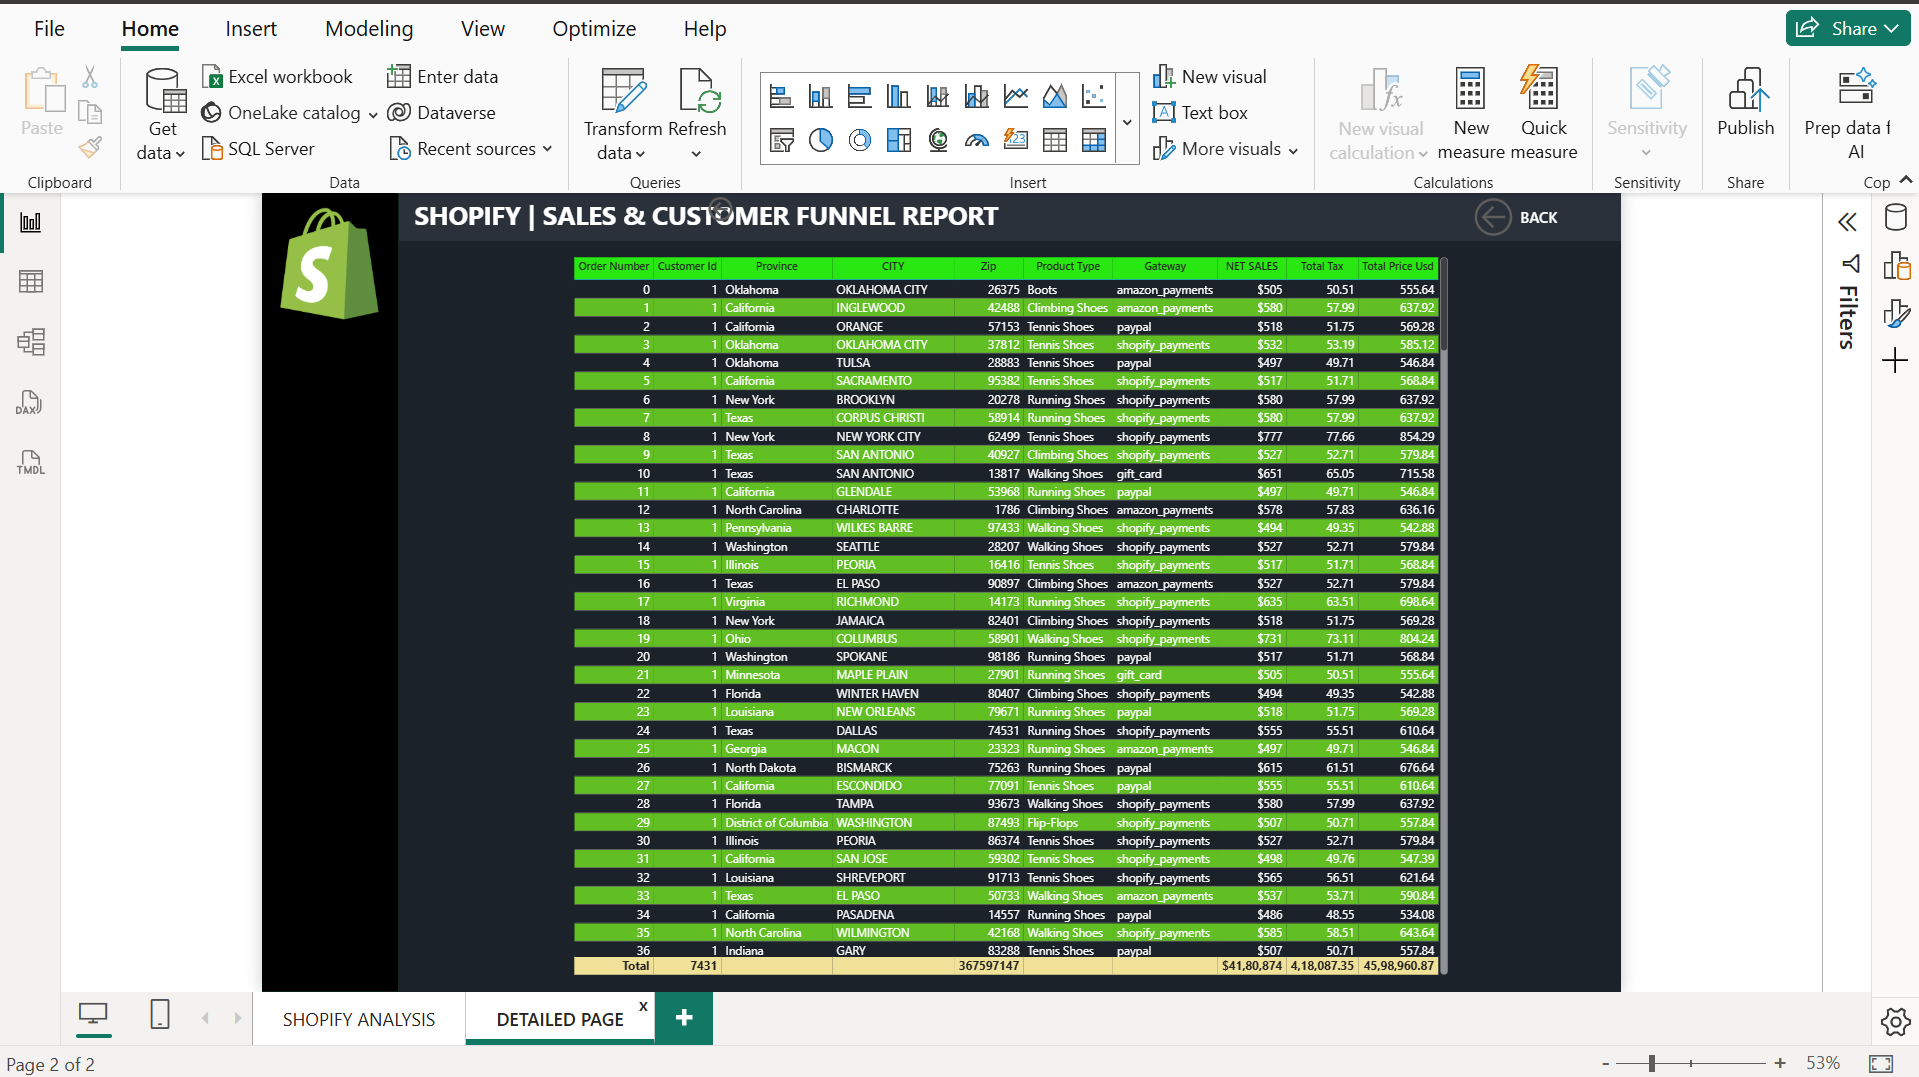

Layout of this report page (visuals, bound fields, positions):
{"tool":"powerbi","page":{"name":"DETAILED PAGE","canvas":[1700,1000],"ordinal":1},"visuals":[{"type":"shape","box":[0,0,170.9,999.5],"z":0},{"type":"textbox","box":[185,0,802.4,60.3],"z":1000},{"type":"shape","box":[170,60,1530,940],"z":9000},{"type":"image","box":[8,14,154,150],"z":25000},{"type":"tableEx","fields":{"Values":["shopify_sales.Order Number","CountNonNull(shopify_sales.Customer Id)","shopify_sales.Billing Address Province","shopify_sales.CITY","Sum(shopify_sales.Billing Address Zip)","shopify_sales.Product Type","shopify_sales.Gateway","shopify_sales.NET SALES","Sum(shopify_sales.Total Tax)","Sum(shopify_sales.Total Price Usd)"]},"box":[384,76,1104,908],"z":25001},{"type":"actionButton","box":[1512,0,114,60],"z":25002},{"type":"actionButton","box":[554,0,100,40],"z":25003}]}

Visuals, with their boxes on the page's 1700x1000 design canvas (x1, y1, x2, y2). These are canvas units, not pixel positions in the 1919x1077 screenshot, which may show the page scaled, cropped or inside an application window:
shape: 0,0,171,1000
textbox: 185,0,987,60
shape: 170,60,1700,1000
image: 8,14,162,164
tableEx - shopify_sales.Order Number x CountNonNull(shopify_sales.Customer Id): 384,76,1488,984
actionButton: 1512,0,1626,60
actionButton: 554,0,654,40
